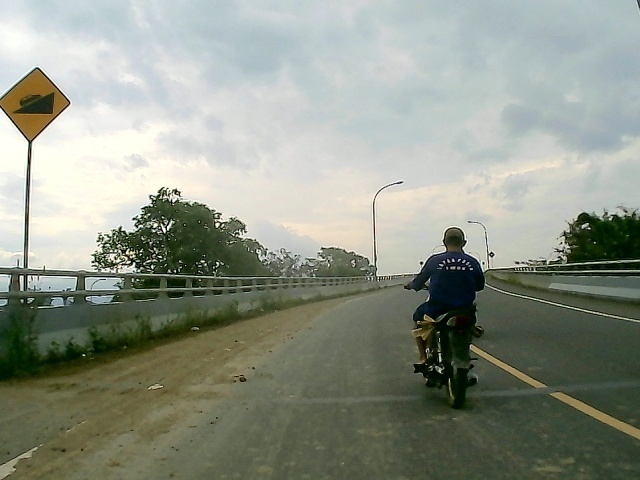Jalanan menanjak: (1, 66, 76, 144)
